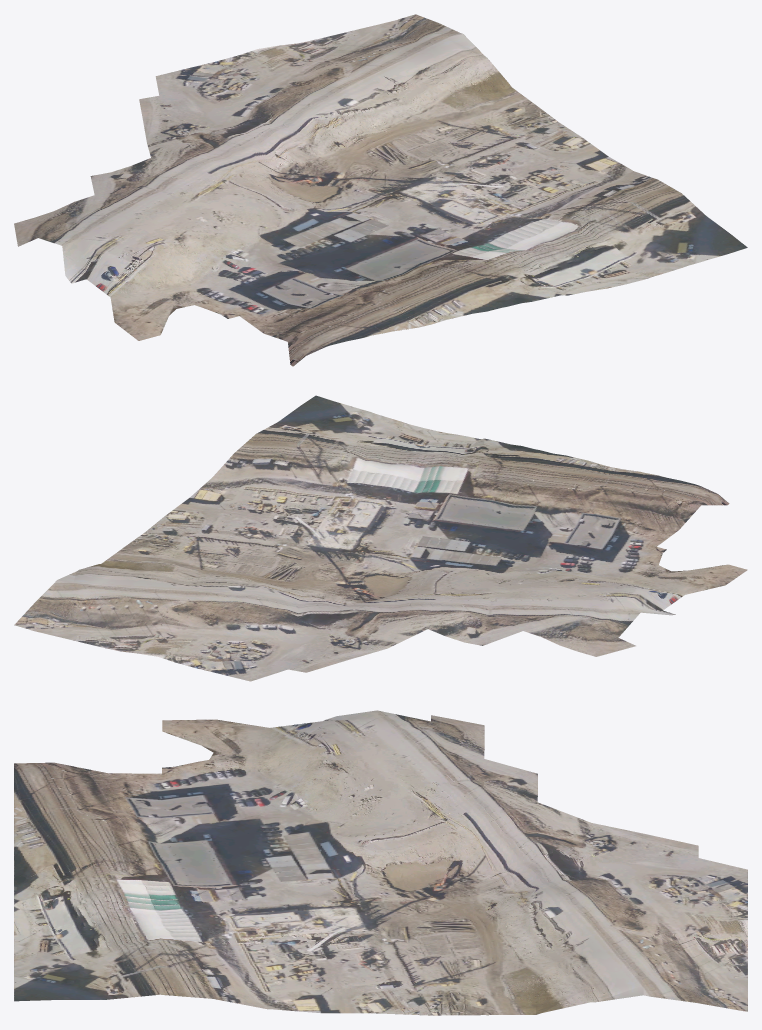
The model's file is CM_Terrain_24486978_6821841.fbx.
3 renders of one model, top to bottom at view 1: azimuth 30°, elevation 25°; view 2: azimuth 150°, elevation 25°; view 3: azimuth 270°, elevation 25°, orthographic. The views are drawn at different scales.
Visible parts, largest first — view 1: CM_Terrain_24486978_6821841_LOD0; view 2: CM_Terrain_24486978_6821841_LOD0; view 3: CM_Terrain_24486978_6821841_LOD0.
Boxes of the visible parts, box(x1,y1,x2,y2) form: CM_Terrain_24486978_6821841_LOD0: box(14, 14, 747, 366); CM_Terrain_24486978_6821841_LOD0: box(14, 395, 747, 681); CM_Terrain_24486978_6821841_LOD0: box(14, 710, 747, 1015).
Size of what is drawn, in the model's own units: 193 by 9.15 by 205.
